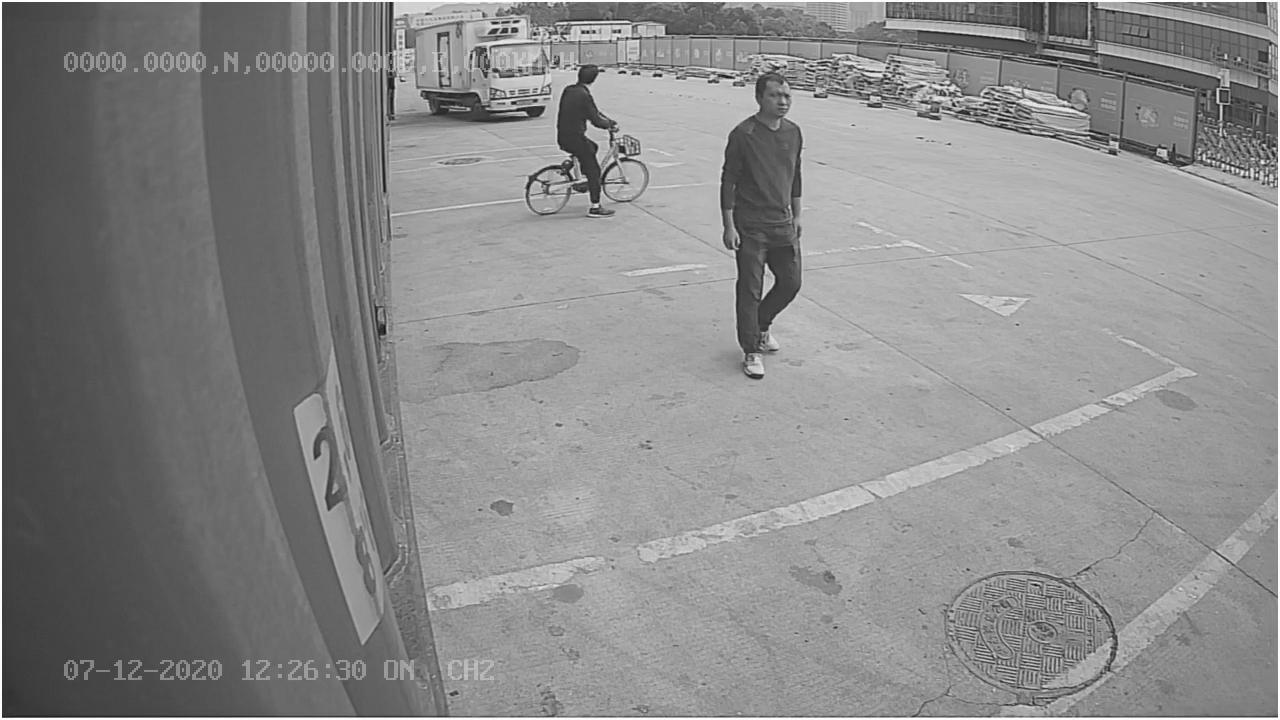person: (716, 67, 811, 378)
